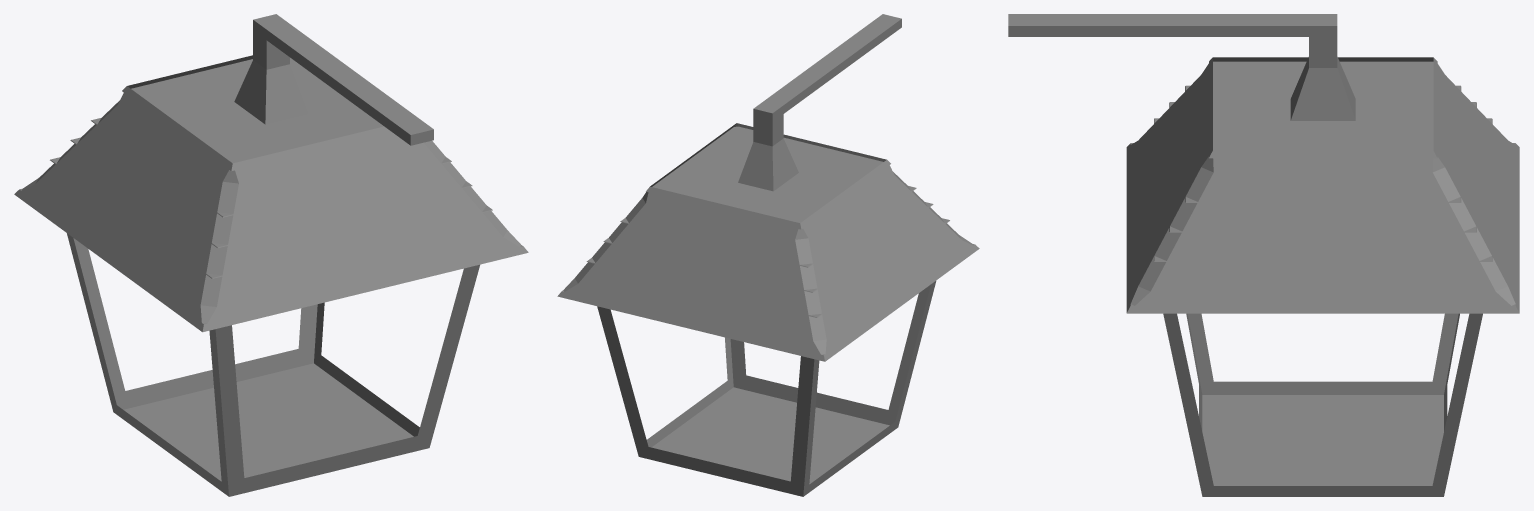
Rendered from Lámpara Antigua.fbx.
The picture shows the model from 3 angles, left to right: view 1: azimuth 30°, elevation 25°; view 2: azimuth 150°, elevation 25°; view 3: azimuth 270°, elevation 25°; orthographic projection. The views are drawn at different scales.
Parts seen in each view (by area): view 1: Plane.003; view 2: Plane.003; view 3: Plane.003.
Boxes of the visible parts, bbox=[...] form: Plane.003: bbox=[14, 14, 528, 496]; Plane.003: bbox=[557, 14, 979, 496]; Plane.003: bbox=[1008, 14, 1519, 496].
Size of the model in its own units: 326 by 389 by 424.
1 material, 1 textured.
